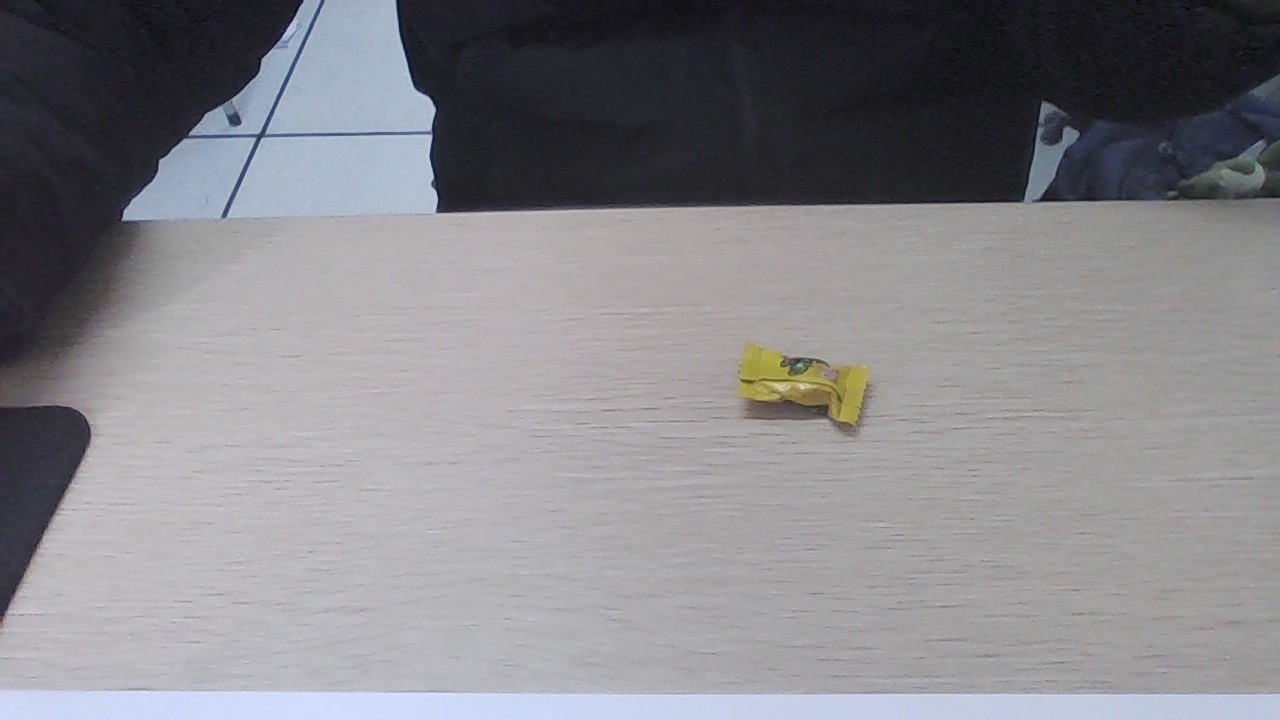CY-sugar: (737, 348, 862, 420)
